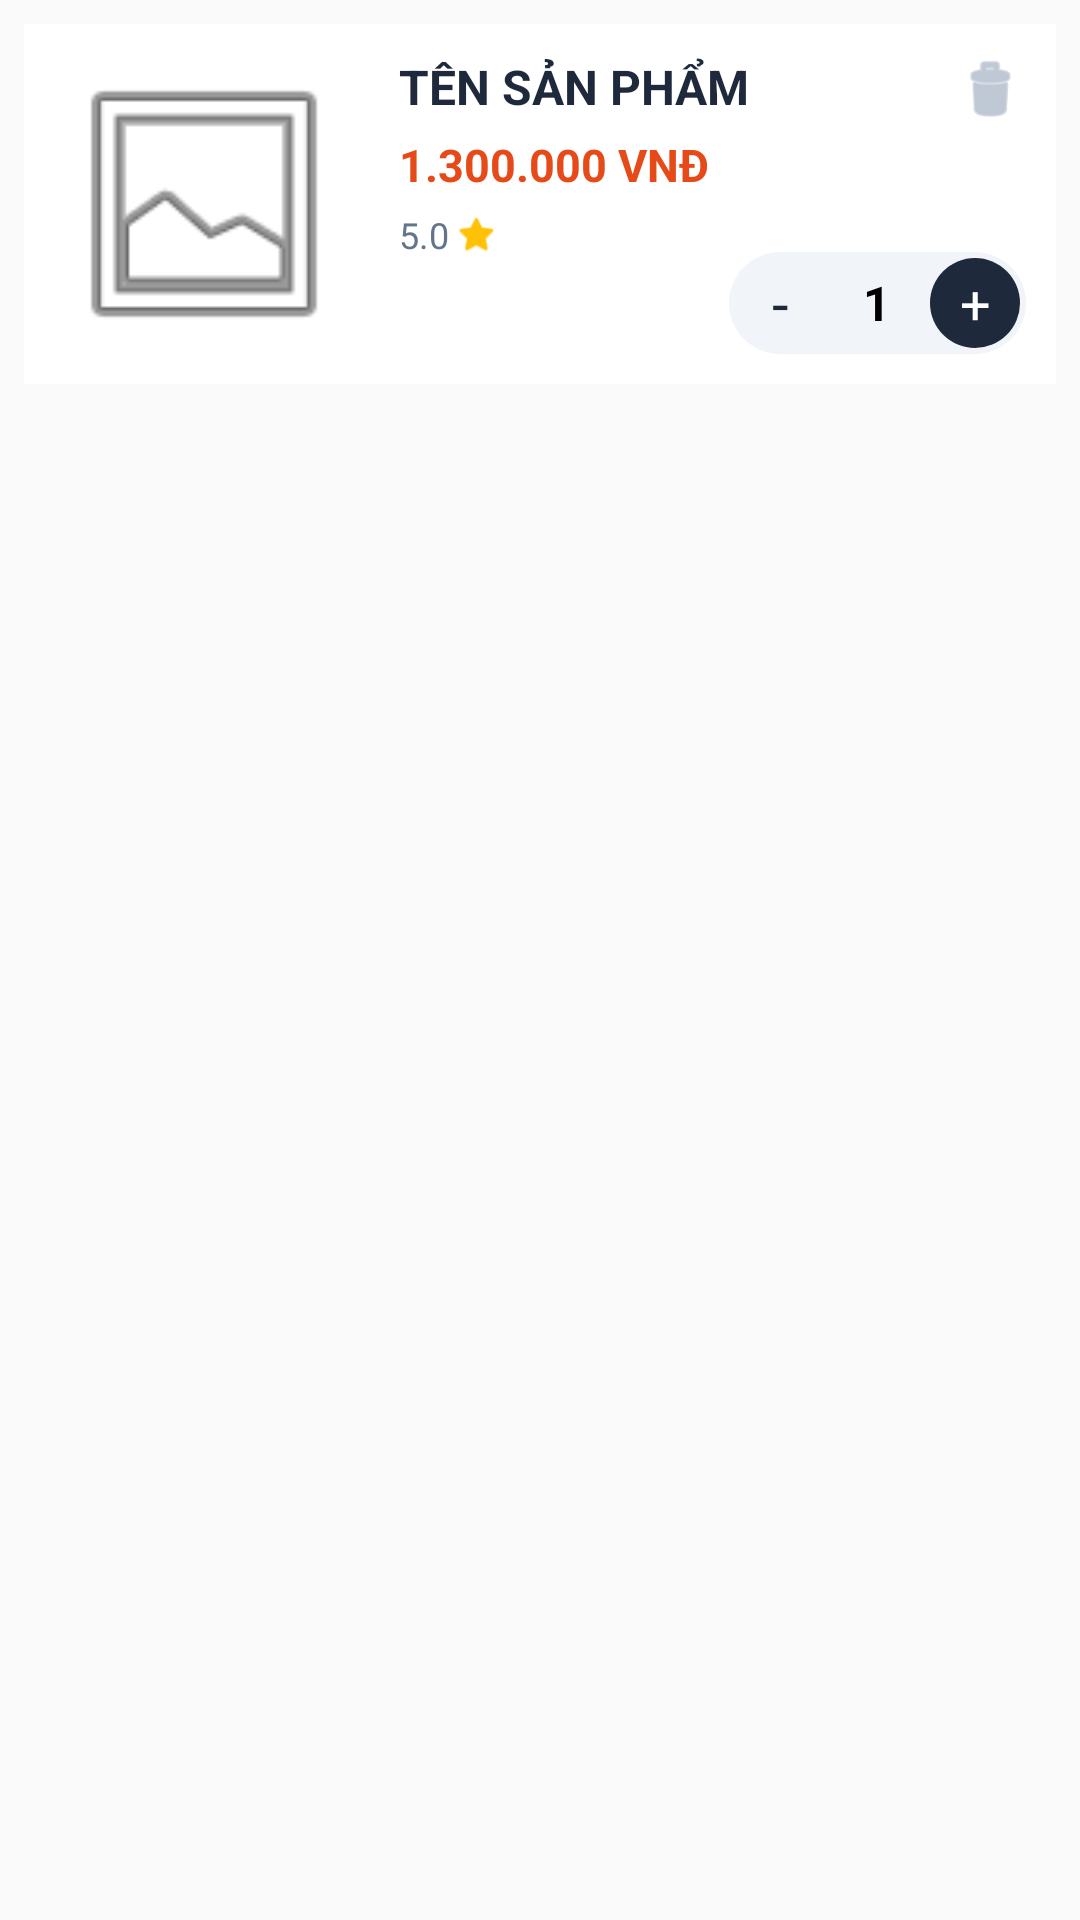

Where to tap for icons on this 1080×1920 app screen, as point (x, y):
delete: point (990, 89)
gallery: point (204, 204)
star on: point (476, 234)
